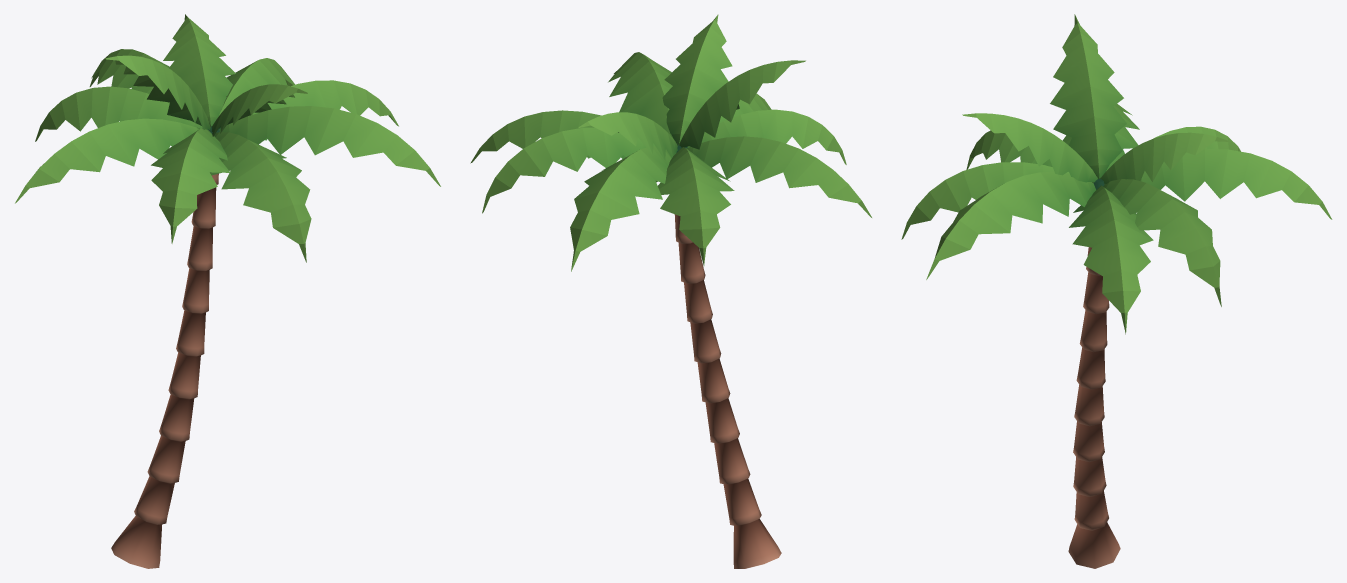
Rendered from palm_mid.glb.
3 renders of one model, left to right at view 1: azimuth 30°, elevation 25°; view 2: azimuth 150°, elevation 25°; view 3: azimuth 270°, elevation 25°, orthographic. The views are drawn at different scales.
Visible parts, largest first — view 1: palm_mid; view 2: palm_mid; view 3: palm_mid.
Boxes of the visible parts, left/top/right/bottom form: palm_mid: left=15, top=14, right=440, bottom=568; palm_mid: left=470, top=14, right=871, bottom=568; palm_mid: left=901, top=14, right=1332, bottom=568.
Size of the model in its own units: 6.37 by 8.01 by 5.96.
